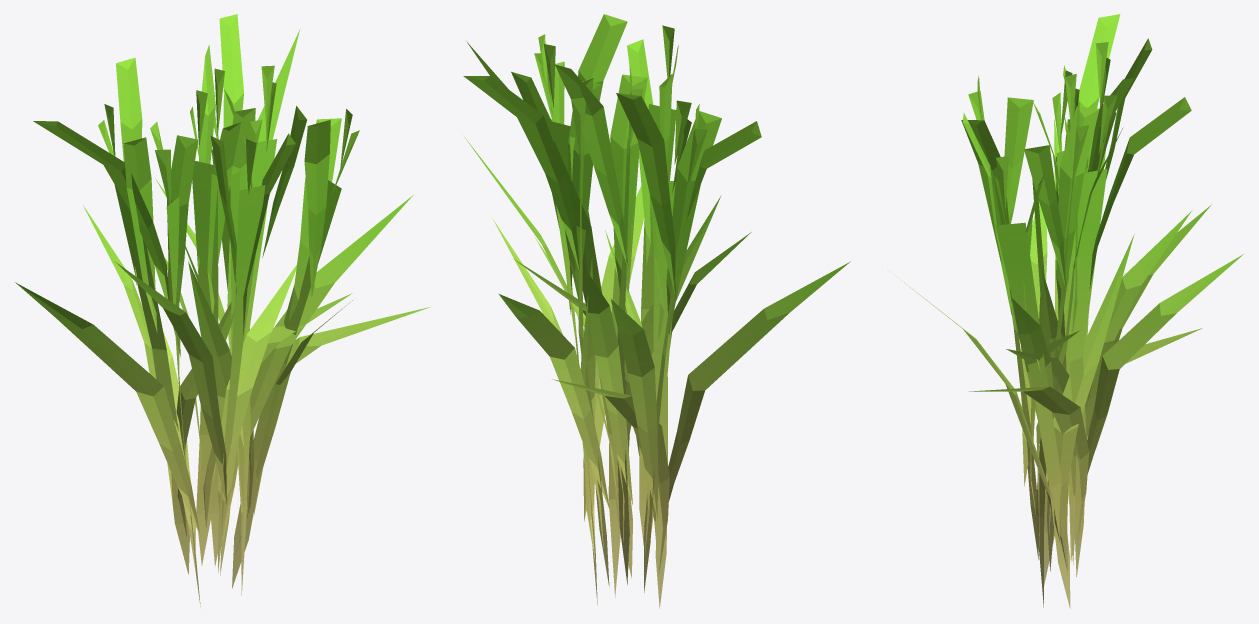
File: RiceCut_LOD.fbx
3 views of the same model, side by side, from view 1: azimuth 30°, elevation 25°; view 2: azimuth 150°, elevation 25°; view 3: azimuth 270°, elevation 25° (orthographic). The views are drawn at different scales.
Parts seen in each view (by area): view 1: RiceCut_LOD0; view 2: RiceCut_LOD0; view 3: RiceCut_LOD0.
Part boxes in pixels (x1,y1,x2,y2): RiceCut_LOD0: [15, 14, 431, 606]; RiceCut_LOD0: [463, 14, 850, 608]; RiceCut_LOD0: [890, 14, 1243, 608].
Size of what is drawn, in the model's own units: 166 by 218 by 134.
1 material, 1 textured.
